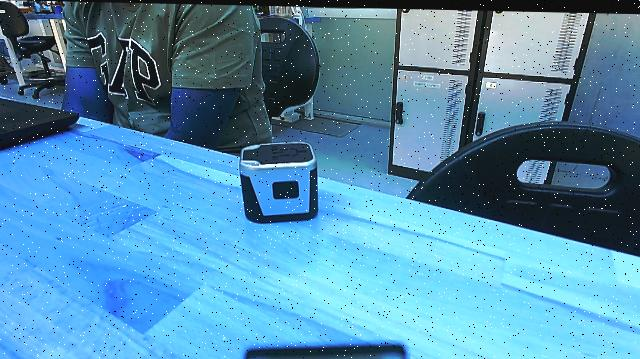adapter: (235, 135, 323, 225)
